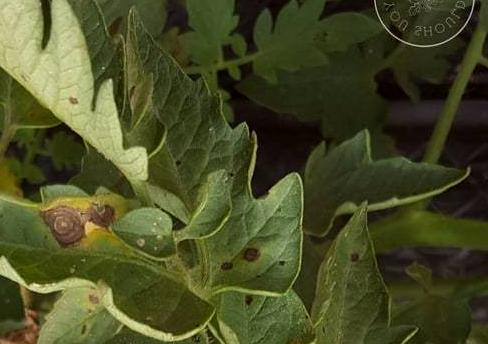Tomato Early blight leaf: (0, 176, 212, 344)
Tomato leaf: (289, 123, 470, 244), (246, 0, 388, 94)
